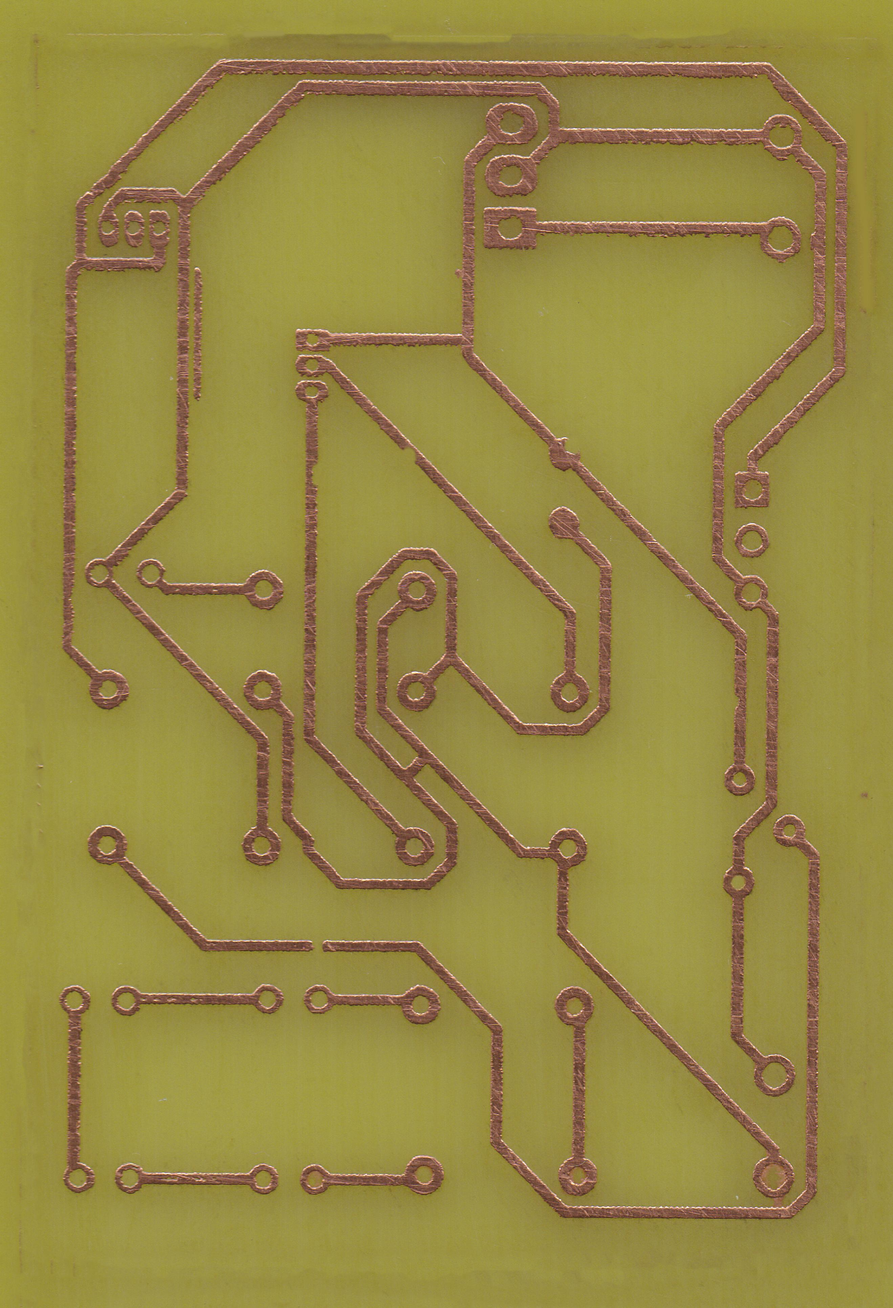missing_hole: (547, 435, 585, 473)
mouse_bite: (397, 439, 422, 470), (305, 456, 323, 496), (732, 689, 745, 717)
open_circuit: (302, 935, 334, 958)
short: (395, 746, 437, 789)
spur: (808, 231, 827, 252), (453, 266, 475, 280)
spurious_copper: (191, 264, 207, 404)
